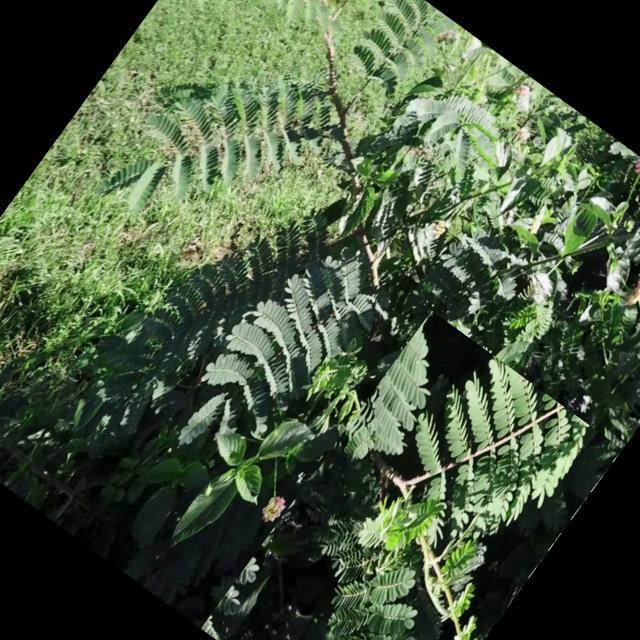Mysore-Thorn-Weed: (0, 0, 547, 449), (200, 310, 621, 640)
